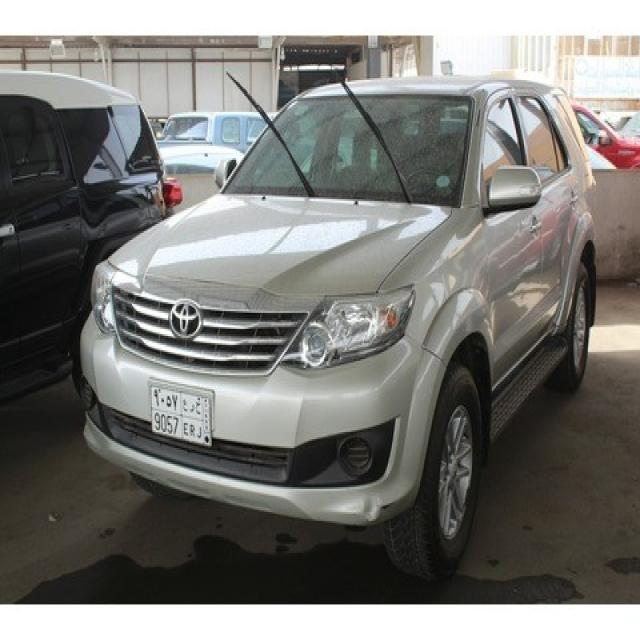license_plate: (148, 380, 213, 450)
